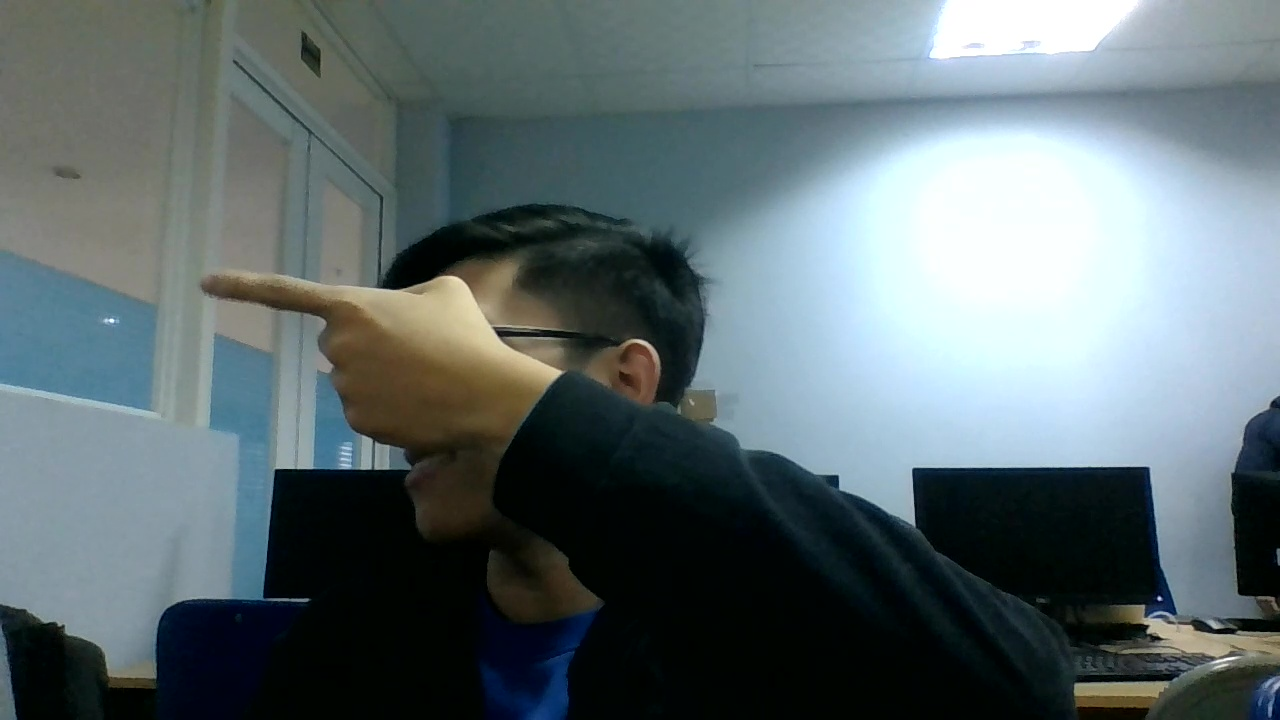right: (194, 263, 489, 444)
